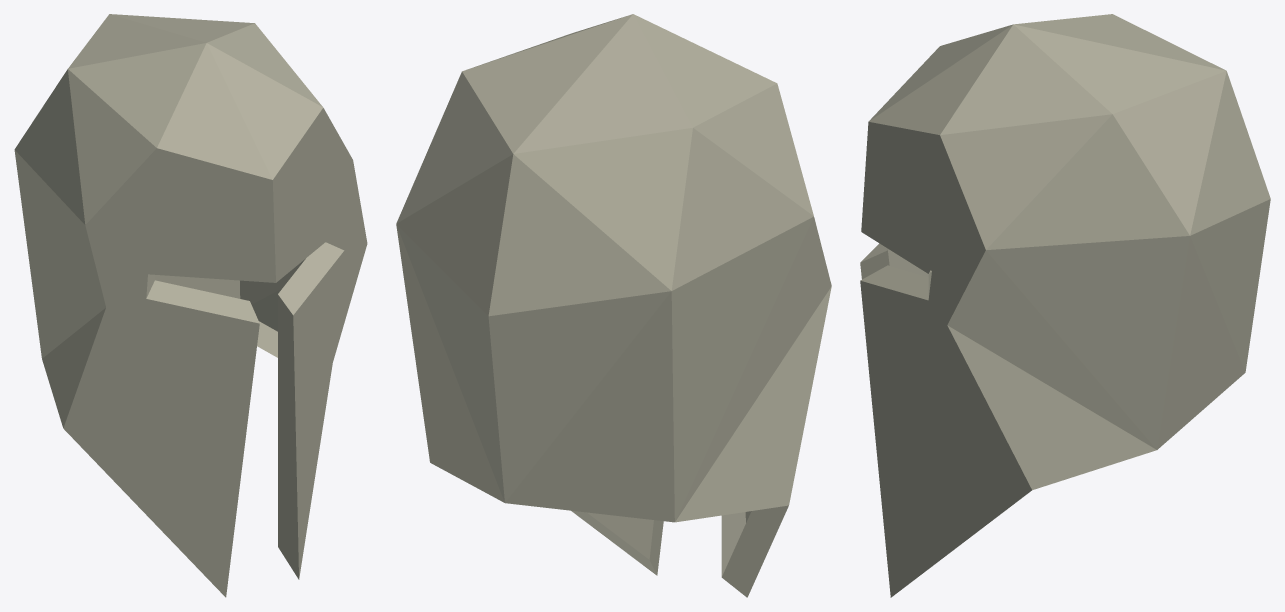
File: medieval_low_poly_helmet.glb
The picture shows the model from 3 angles, left to right: view 1: azimuth 30°, elevation 25°; view 2: azimuth 150°, elevation 25°; view 3: azimuth 270°, elevation 25°; orthographic projection. The views are drawn at different scales.
Parts seen in each view (by area): view 1: Cube; view 2: Cube; view 3: Cube.
Boxes of the visible parts, left/top/right/bottom form: Cube: left=14, top=14, right=367, bottom=597; Cube: left=396, top=14, right=831, bottom=597; Cube: left=860, top=14, right=1270, bottom=597.
Bounding box in the file's own units: 78.37 × 140 × 94.28.
